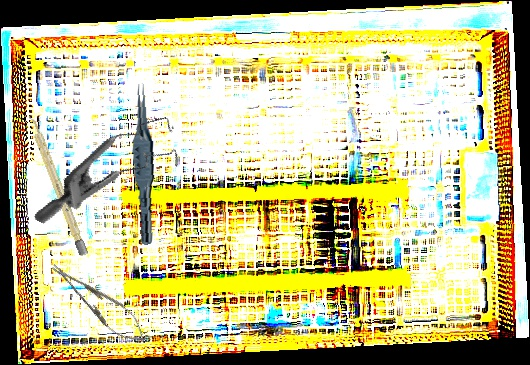Needle Holder: (44, 254, 154, 352)
Scalpel Handle: (26, 114, 89, 257)
Speculum: (33, 84, 194, 266)
Tissue Forceps: (126, 82, 163, 246)
